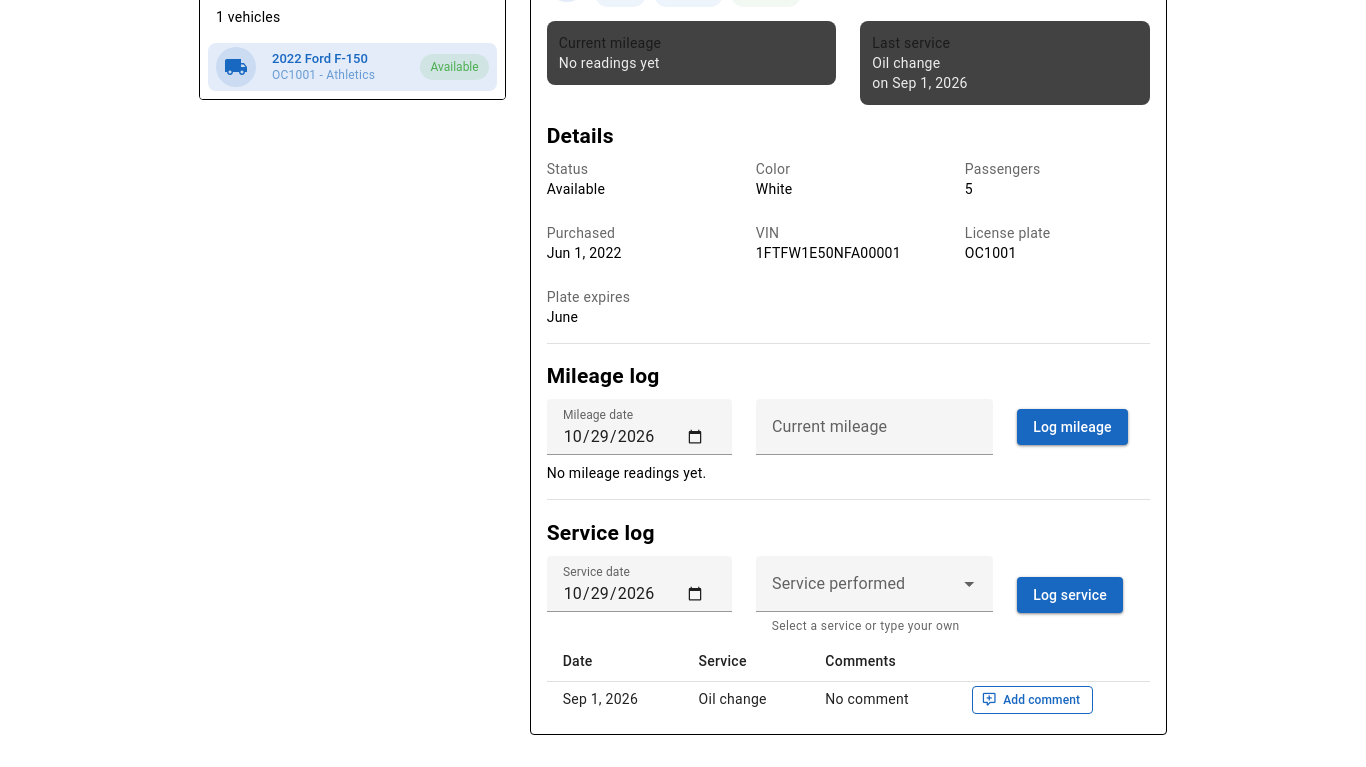
Test case: Feature 2 — Vehicle Management › US-2.8 — Log Mileage and Service › Maintenance adds a comment to an existing service
(page scrolled)
Click the button "Add comment": (1032, 700) [972, 686, 1093, 714]
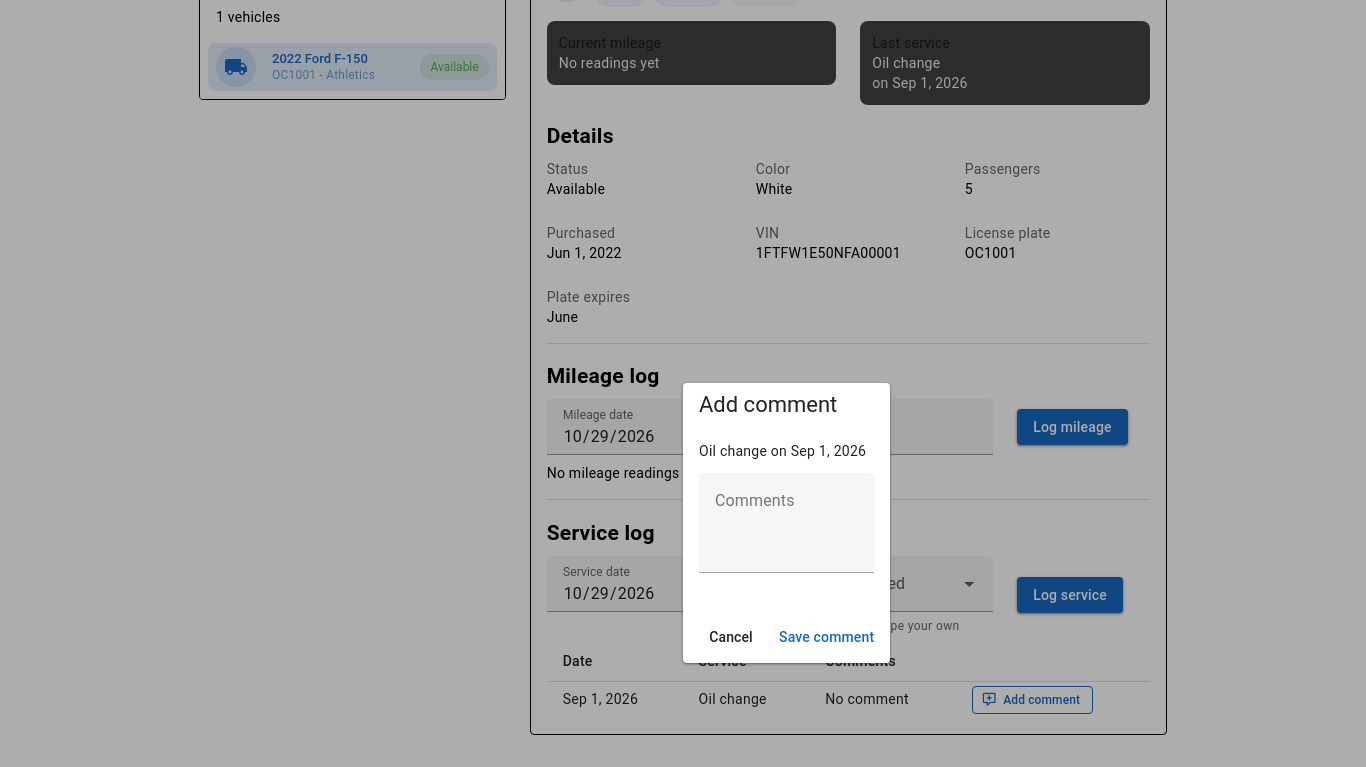
Expected: the text "Oil change on" is shown, [860, 21, 1150, 105]
In the text box labelled "Comments": (787, 523) [699, 473, 874, 573], type "Used 5W-30."
(page scrolled)
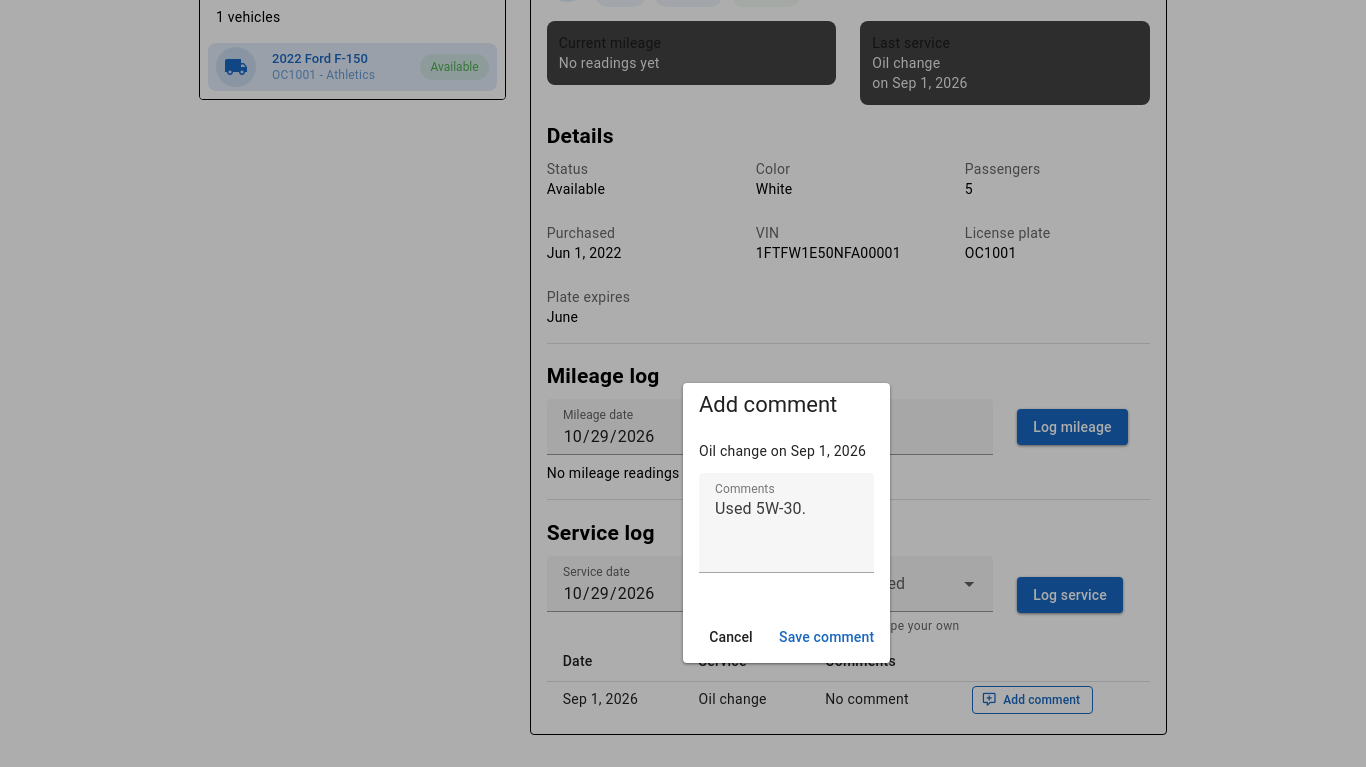
Click the button "Save comment": (827, 637) [771, 619, 882, 655]
(page scrolled)
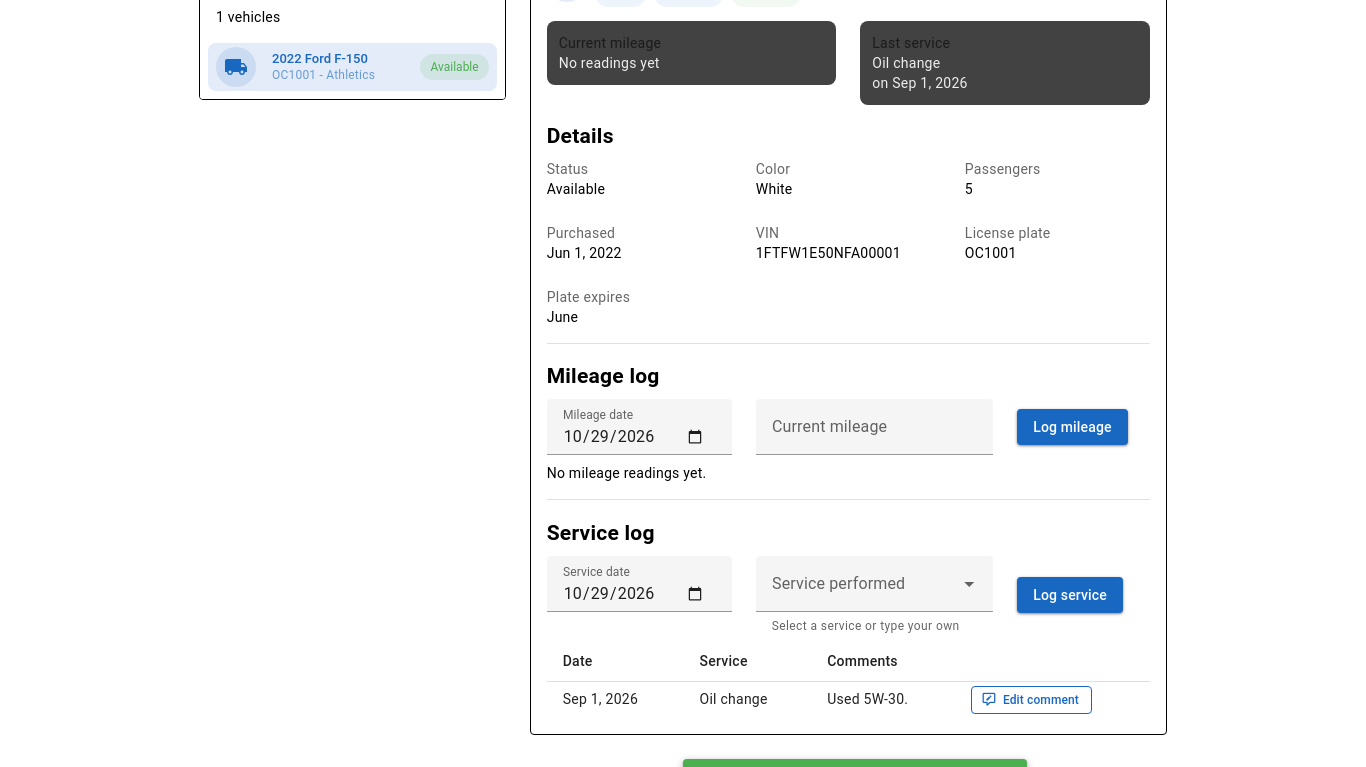
Expected: the text "Used 5W-30." is shown, [811, 682, 955, 718]
